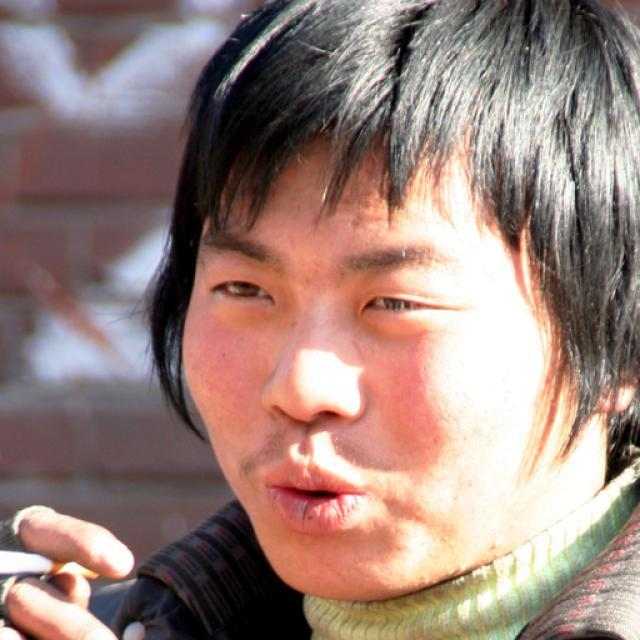disgust: (180, 104, 591, 604)
